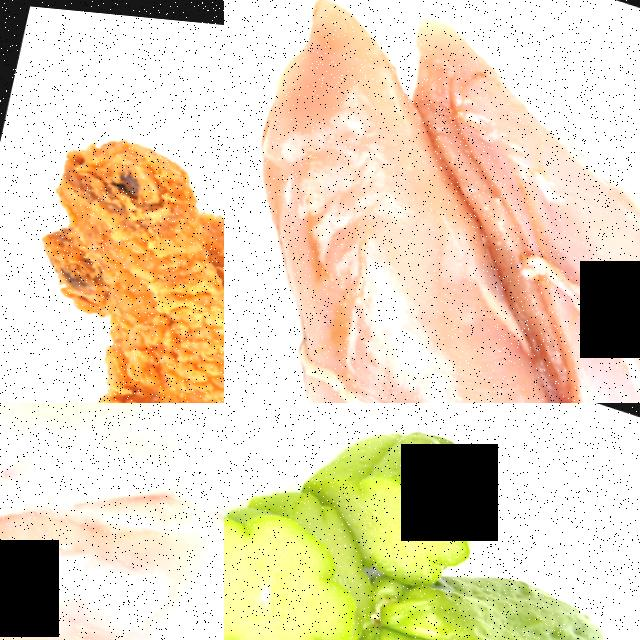chayote: (293, 403, 547, 544), (393, 553, 640, 640)
chicken breast: (224, 81, 555, 403), (464, 26, 640, 403), (0, 403, 224, 640)
